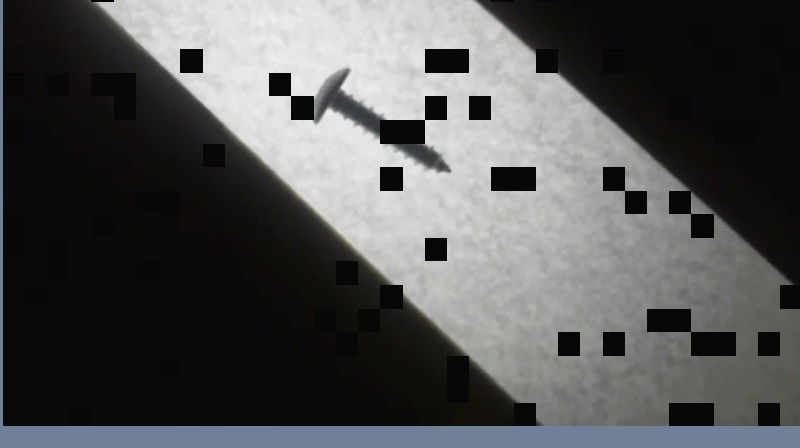S003: (304, 66, 455, 175)
